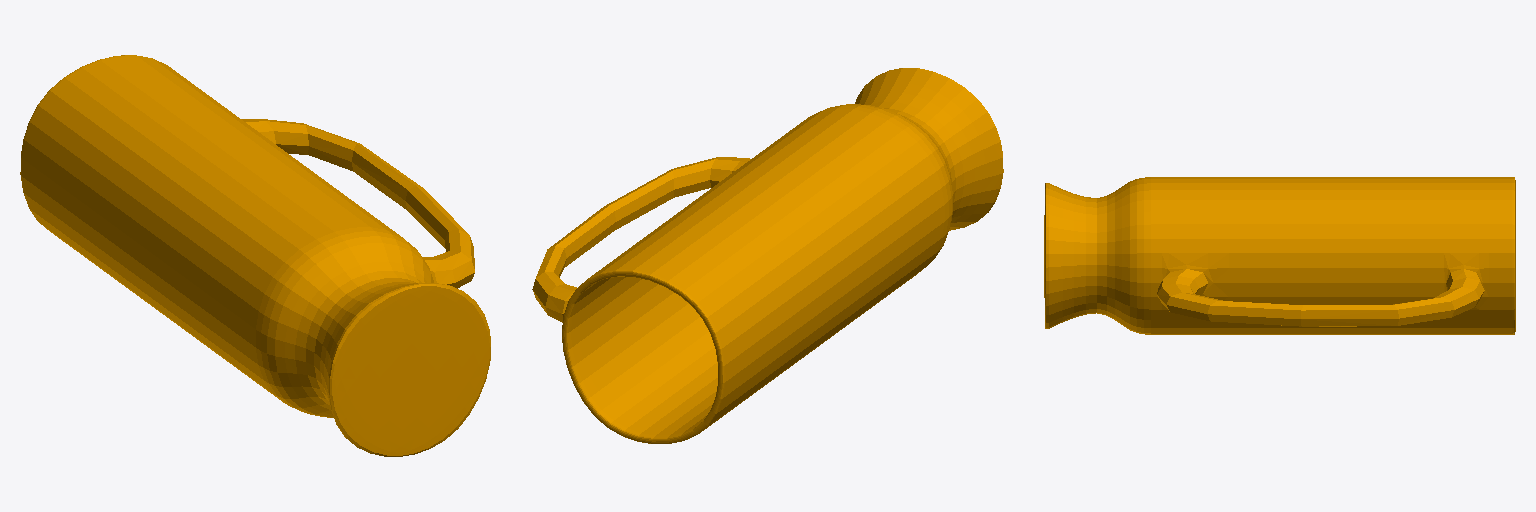
The robot description file, URDF, robot "283":
<?xml version="1.0" ?>
<robot name="283">
  <link name="body">
    <visual>
      <geometry>
        <mesh filename="../shapes/283.obj"/>
      </geometry>
    </visual>
    <collision>
      <geometry>
        <mesh filename="../shapes/283.obj"/>
      </geometry>
    </collision>
  </link>
</robot>

--- Render facts (derived) ---
Views: 3 orthographic renders of the robot side by side, from view 1: azimuth 30°, elevation 25°; view 2: azimuth 150°, elevation 25°; view 3: azimuth 270°, elevation 25°.
Robot: 283 — 1 links, 0 joints (none); root link body; default pose: every joint at zero.
Links seen in each view (by area): view 1: body; view 2: body; view 3: body.
Link boxes in pixels (x1,y1,x2,y2): body: [20, 55, 490, 456]; body: [532, 68, 1003, 443]; body: [1044, 177, 1515, 334].
Bounding box of the posed robot: 3.75 × 7.39 × 2.42 m (x, y, z).
1 mesh visuals loaded from 1 distinct referenced files (1 OBJ).